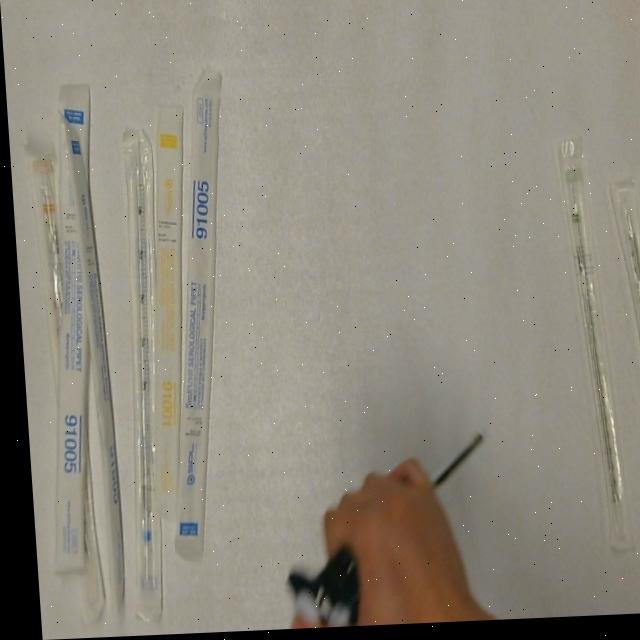Serelogical Pipet 1 mL: (121, 99, 207, 526)
Serelogical Pipet 10 mL: (24, 147, 82, 400)
Serelogical Pipet 2 mL: (548, 137, 631, 567)
Serelogical Pipet 5 mL: (139, 66, 250, 566), (19, 76, 117, 578), (98, 128, 178, 627), (58, 108, 122, 613)
Single Channel Pipettor: (267, 432, 496, 631)
